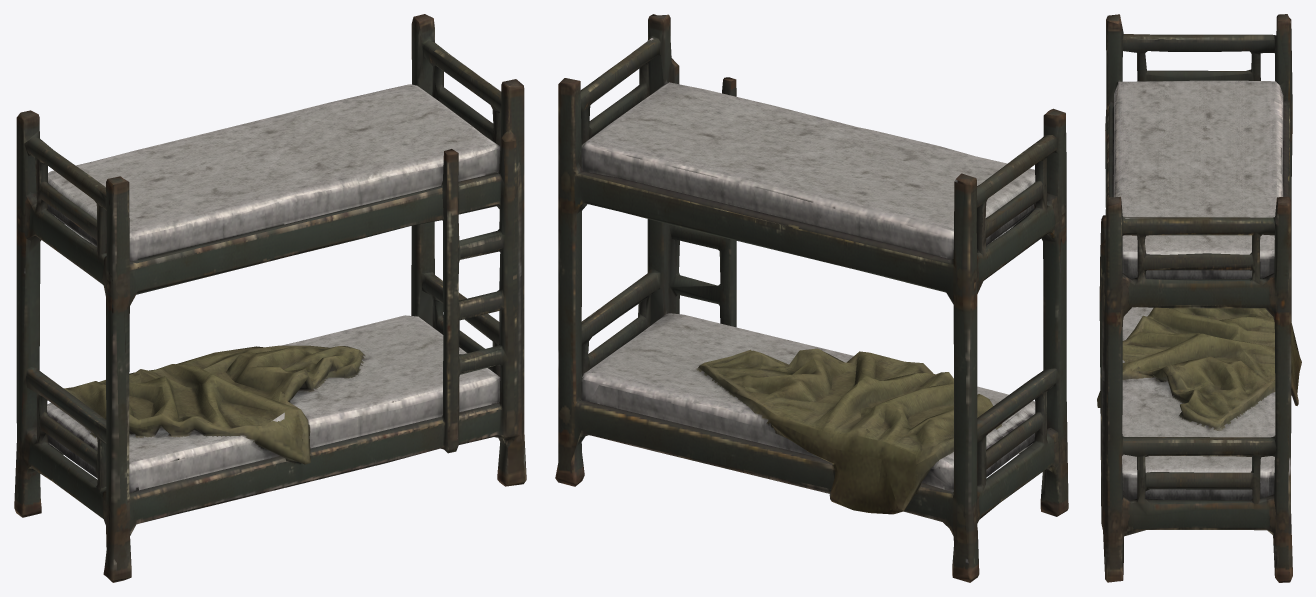
File: bunker_bunk_bed.glb
3 renders of one model, left to right at view 1: azimuth 30°, elevation 25°; view 2: azimuth 150°, elevation 25°; view 3: azimuth 270°, elevation 25°, orthographic. The views are drawn at different scales.
Visible parts, largest first — view 1: BunkerBunkBed; view 2: BunkerBunkBed; view 3: BunkerBunkBed.
Boxes of the visible parts, x1,y1,x2,y2 form: BunkerBunkBed: [14, 14, 526, 582]; BunkerBunkBed: [555, 14, 1068, 582]; BunkerBunkBed: [1097, 14, 1301, 582].
Size of the model in its own units: 2 by 1.85 by 0.9.
1 material, 1 textured.
